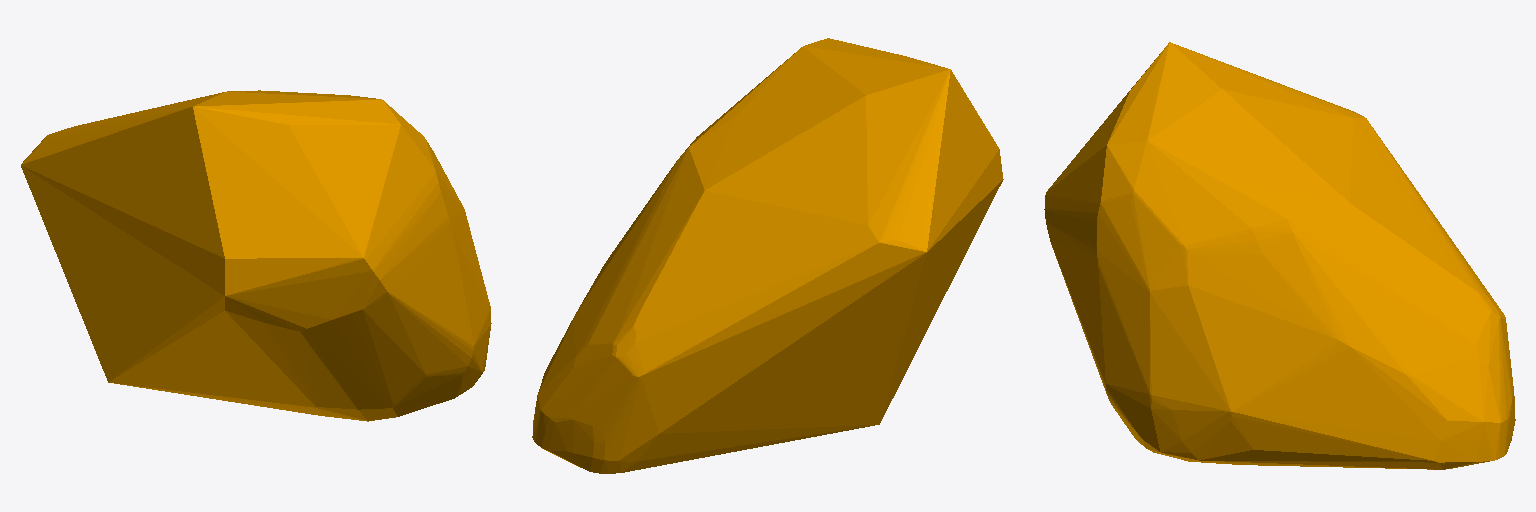
URDF robot description (convex_hull_mesh):
<?xml version="1.0"?>
<robot name="convex_hull_mesh">
  <link name="convex_hull_mesh">
    <visual>
      <origin xyz="0.0 0.0 0.0"/>
      <geometry>
        <mesh filename="convex_hull_mesh.obj" scale="1.0 1.0 1.0"/>
      </geometry>
    </visual>
    <collision concave = "yes">
      <origin xyz="0.0 0.0 0.0"/>
      <geometry>
        <mesh filename="convex_hull_mesh.obj" scale="1.0 1.0 1.0"/>
      </geometry>
    </collision>
    <inertial>
      <!-- Mass value from the *empty* spam can. Full spam can is 368g -->
      <mass value="0.33"/> 
      <inertia ixx="0.0001" ixy="0.0" ixz="0.0" iyy="0.0001" iyz="0.0" izz="0.0001"/>
    </inertial>
  </link>
</robot>

--- Render facts (derived) ---
The picture shows the robot from 3 angles, left to right: view 1: azimuth 30°, elevation 25°; view 2: azimuth 150°, elevation 25°; view 3: azimuth 270°, elevation 25°; orthographic projection.
Model convex_hull_mesh with 1 links and 0 joints (none), rooted at convex_hull_mesh, posed all joints at 0.
Links seen in each view (by area): view 1: convex_hull_mesh; view 2: convex_hull_mesh; view 3: convex_hull_mesh.
Link boxes in pixels (bbox=[...]): convex_hull_mesh: bbox=[21, 90, 491, 421]; convex_hull_mesh: bbox=[532, 38, 1003, 473]; convex_hull_mesh: bbox=[1044, 42, 1515, 469].
Bounding box of the posed robot: 0.8991 × 1.09 × 0.8085 m (x, y, z).
1 mesh visuals loaded from 1 distinct referenced files (1 OBJ).
